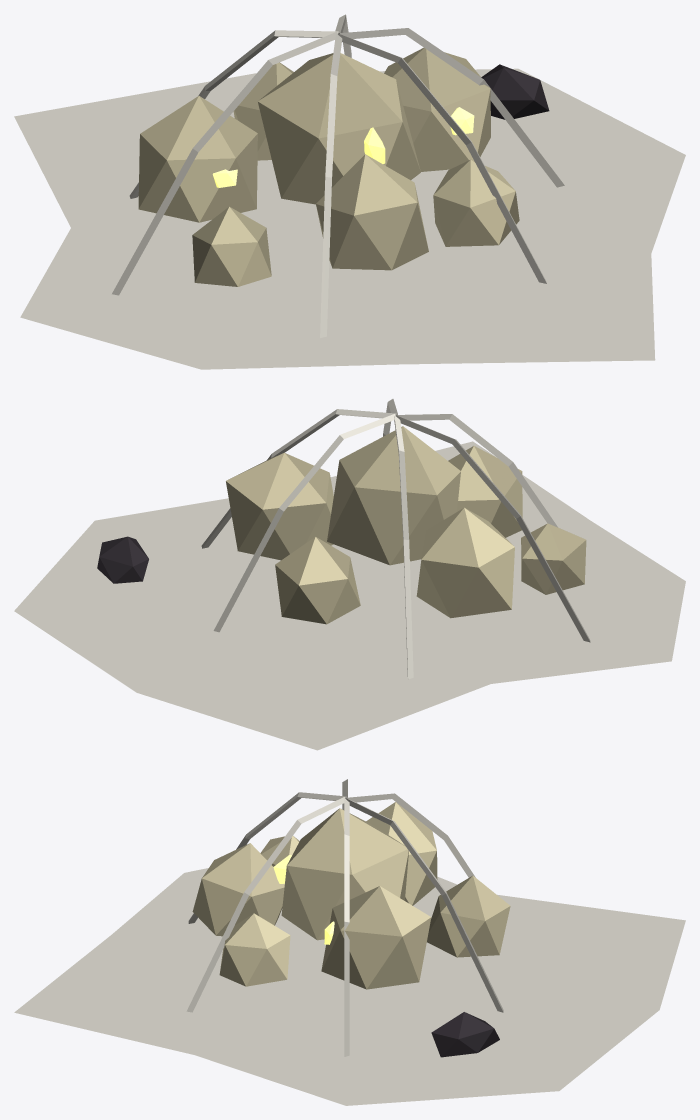
File: spider_egg_sacs.glb
3 views of the same model, one above another, from view 1: azimuth 30°, elevation 25°; view 2: azimuth 150°, elevation 25°; view 3: azimuth 270°, elevation 25° (orthographic). The views are drawn at different scales.
Parts seen in each view (by area): view 1: spider_egg_sacs; view 2: spider_egg_sacs; view 3: spider_egg_sacs.
Part boxes in pixels (<box>): spider_egg_sacs: <box>14,14,685,369</box>; spider_egg_sacs: <box>14,399,685,750</box>; spider_egg_sacs: <box>14,779,685,1105</box>.
Size of the model in its own units: 2.08 by 0.6361 by 2.22.
